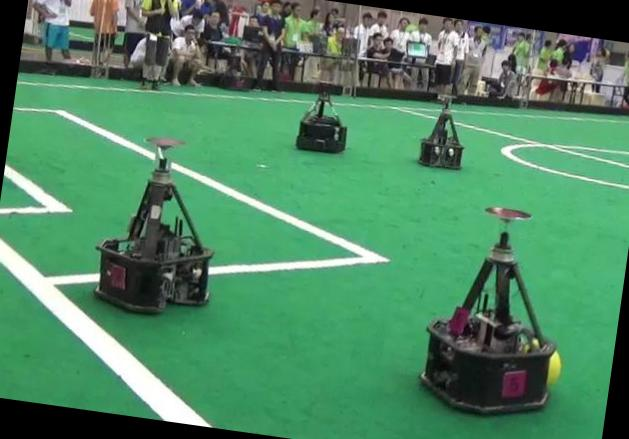ball: (546, 349, 562, 385)
person: (140, 0, 178, 90)
robot: (420, 206, 556, 412), (94, 156, 212, 311), (418, 95, 463, 168), (295, 89, 346, 151)
